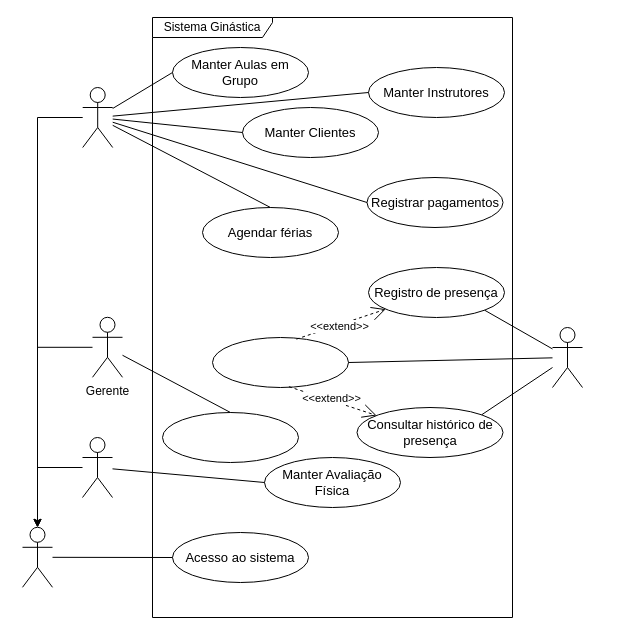
The diagram is 620 pixels wide and 635 high, and some of its shapes have lost their labels. The shapes that lost their labels are listed below. From the top down, each one's centre as x and y in pixels, then its label:
At (x=97, y=117): "Recepcionista".
At (x=280, y=362): "Identificação de aluno".
At (x=567, y=357): "Cliente/Aluno".
At (x=230, y=437): "Consultar relatórios financeiros".
At (x=97, y=467): "Fisioterapeuta".
At (x=37, y=556): "Usuário".
